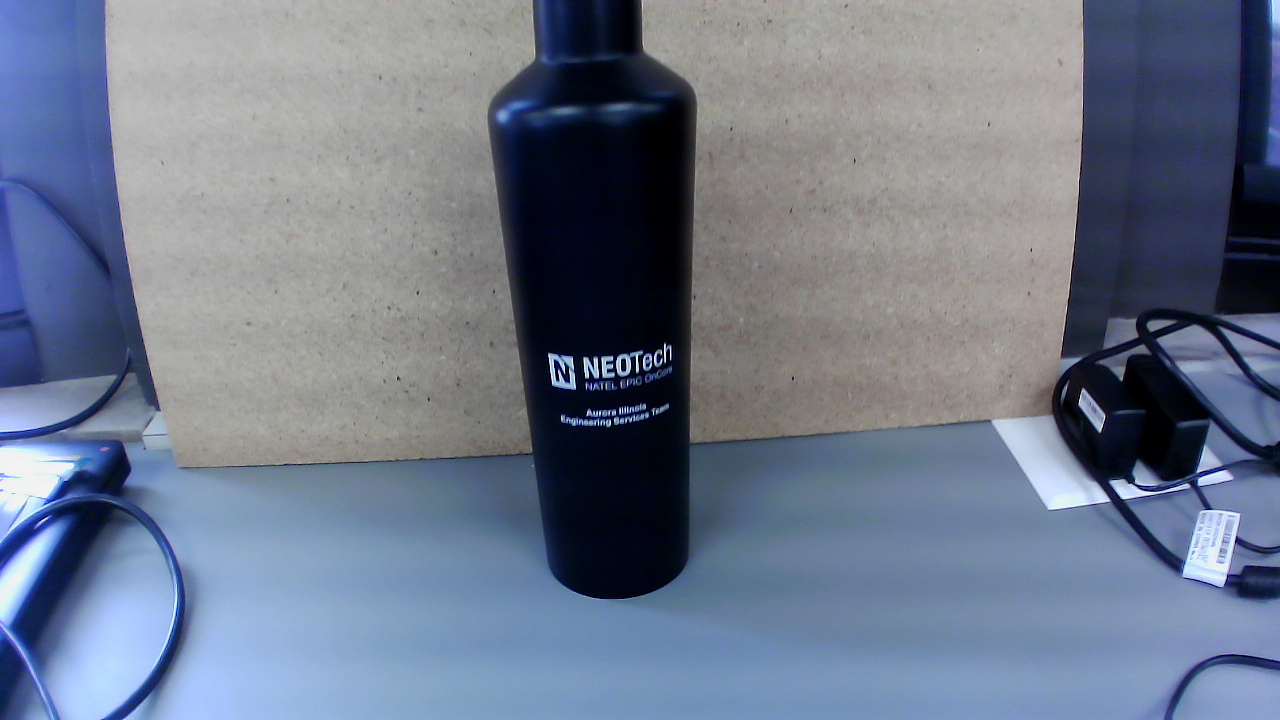neobottle: (473, 5, 719, 605)
